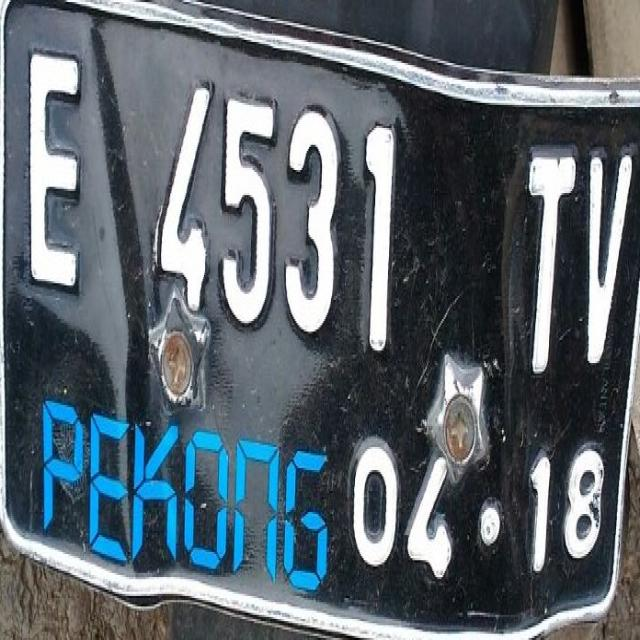plate: (0, 0, 638, 632)
